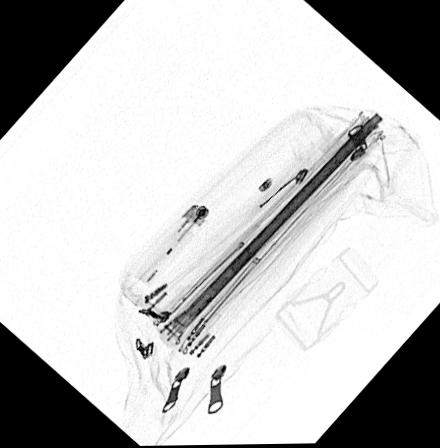Lighter: (134, 204, 211, 287)
